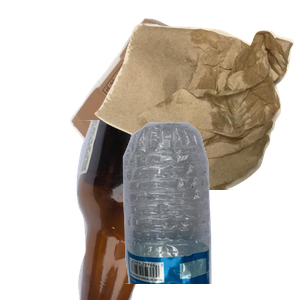cardboard: (67, 16, 295, 196)
glass: (60, 120, 300, 300)
plastic: (111, 120, 300, 300)
trash: (92, 21, 300, 201)
